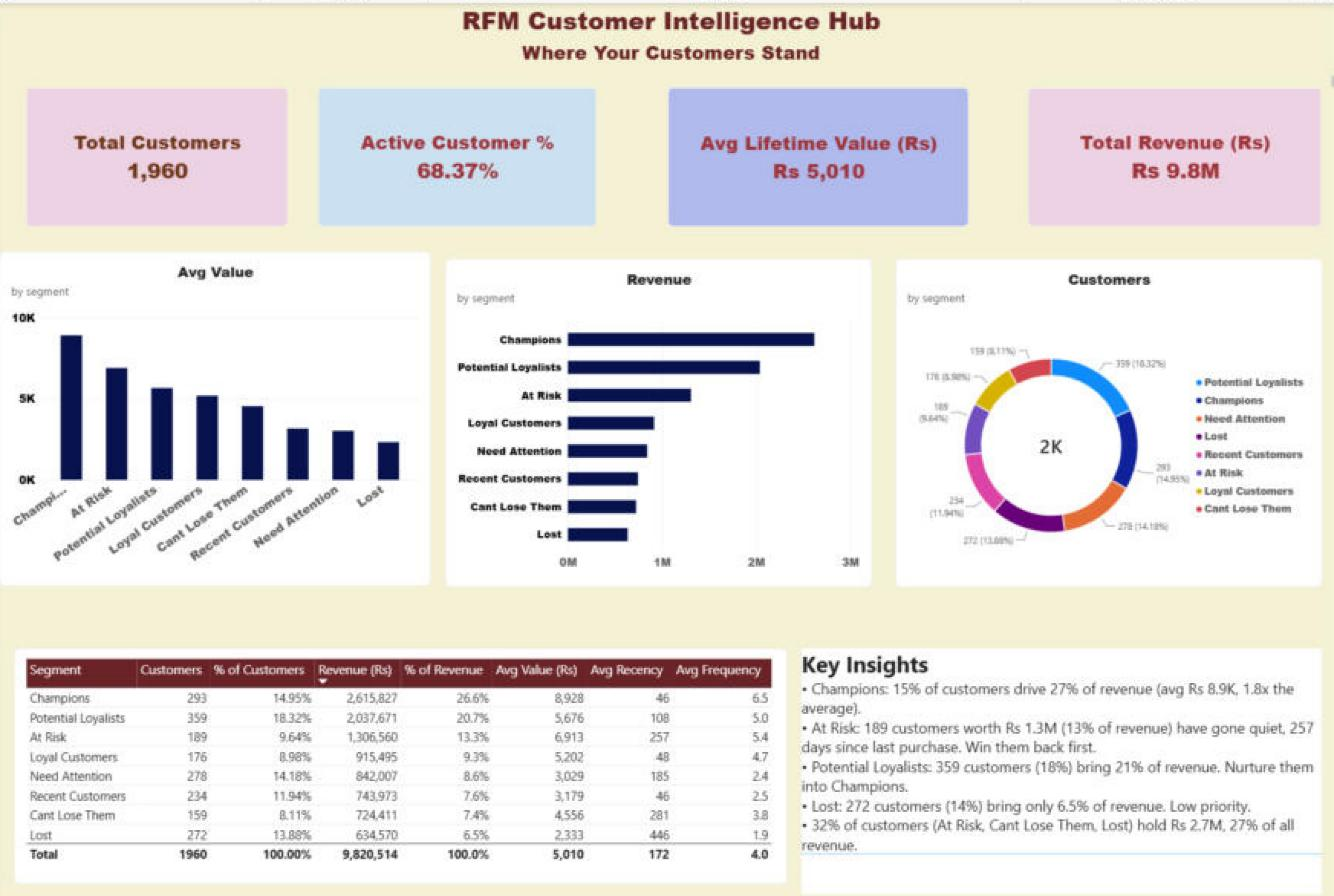

The page's visual inventory and layout, read from the dashboard file:
{"tool":"powerbi","page":{"name":"Where Your Customers Stand","canvas":[1920,1350],"ordinal":0},"visuals":[{"type":"textbox","title":"RFM Customer Intelligence Hub","box":[9.3,0,1911.7,120.5],"z":1000},{"type":"cardVisual","fields":{"Data":["rfm_segmentation.Total Customers"]},"box":[37.6,120,376.5,200],"z":2000},{"type":"cardVisual","fields":{"Data":["rfm_segmentation.Avg Lifetime Value (Rs)"]},"box":[960,120,432.9,200],"z":3000},{"type":"cardVisual","fields":{"Data":["rfm_segmentation.Total Revenue (Rs)"]},"box":[1477.6,120,421.2,200],"z":4000},{"type":"cardVisual","fields":{"Data":["rfm_segmentation.Active Customer %"]},"box":[456.5,120,400,200],"z":5000},{"type":"donutChart","fields":{"Category":["rfm_segmentation.segment"],"Y":["rfm_segmentation.Customers"]},"box":[1287.1,367.1,611.8,470.6],"z":6000},{"type":"clusteredBarChart","fields":{"Category":["rfm_segmentation.segment"],"Y":["rfm_segmentation.Revenue"]},"box":[640,367.1,611.8,470.6],"z":7000},{"type":"clusteredColumnChart","fields":{"Category":["rfm_segmentation.segment"],"Y":["rfm_segmentation.Avg Value"]},"box":[0,357.6,618.8,480],"z":8000},{"type":"tableEx","fields":{"Values":["rfm_segmentation.segment","rfm_segmentation.Customers","rfm_segmentation.Customer %","rfm_segmentation.Revenue","rfm_segmentation.Revenue %","rfm_segmentation.Avg Value","rfm_segmentation.Avg Recency","rfm_segmentation.Avg Frequency"]},"box":[20.9,926,1109.6,337.9],"z":9000},{"type":"textbox","box":[1151.3,926,746.7,352.5],"z":10000}]}

Visuals, with their boxes on the page's 1920x1350 design canvas (x1, y1, x2, y2). These are canvas units, not pixel positions in the 1334x896 screenshot, which may show the page scaled, cropped or inside an application window:
"RFM Customer Intelligence Hub" textbox: 9, 0, 1921, 120
cardVisual - rfm_segmentation.Total Customers: 38, 120, 414, 320
cardVisual - rfm_segmentation.Avg Lifetime Value (Rs): 960, 120, 1393, 320
cardVisual - rfm_segmentation.Total Revenue (Rs): 1478, 120, 1899, 320
cardVisual - rfm_segmentation.Active Customer %: 456, 120, 856, 320
donutChart - rfm_segmentation.segment x rfm_segmentation.Customers: 1287, 367, 1899, 838
clusteredBarChart - rfm_segmentation.segment x rfm_segmentation.Revenue: 640, 367, 1252, 838
clusteredColumnChart - rfm_segmentation.segment x rfm_segmentation.Avg Value: 0, 358, 619, 838
tableEx - rfm_segmentation.segment x rfm_segmentation.Customers: 21, 926, 1130, 1264
textbox: 1151, 926, 1898, 1278
